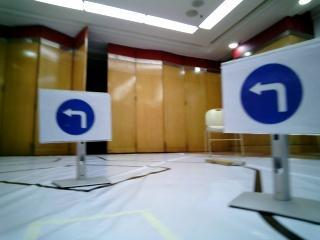left: (230, 62, 320, 130), (40, 87, 111, 142)
